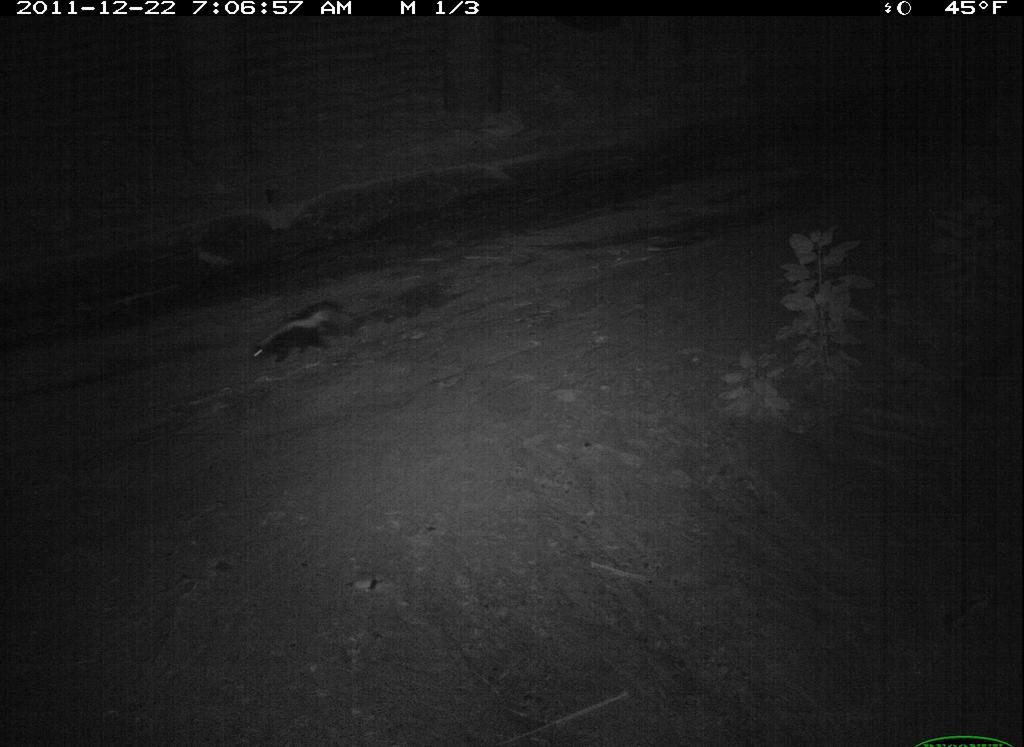skunk: (241, 297, 363, 378)
